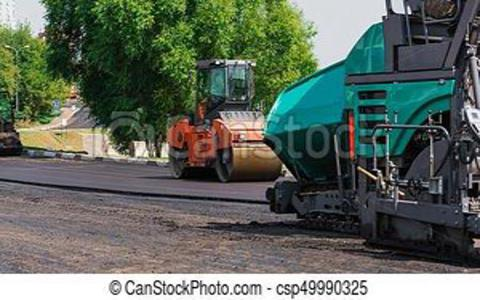Proper road: (30, 161, 168, 193)
